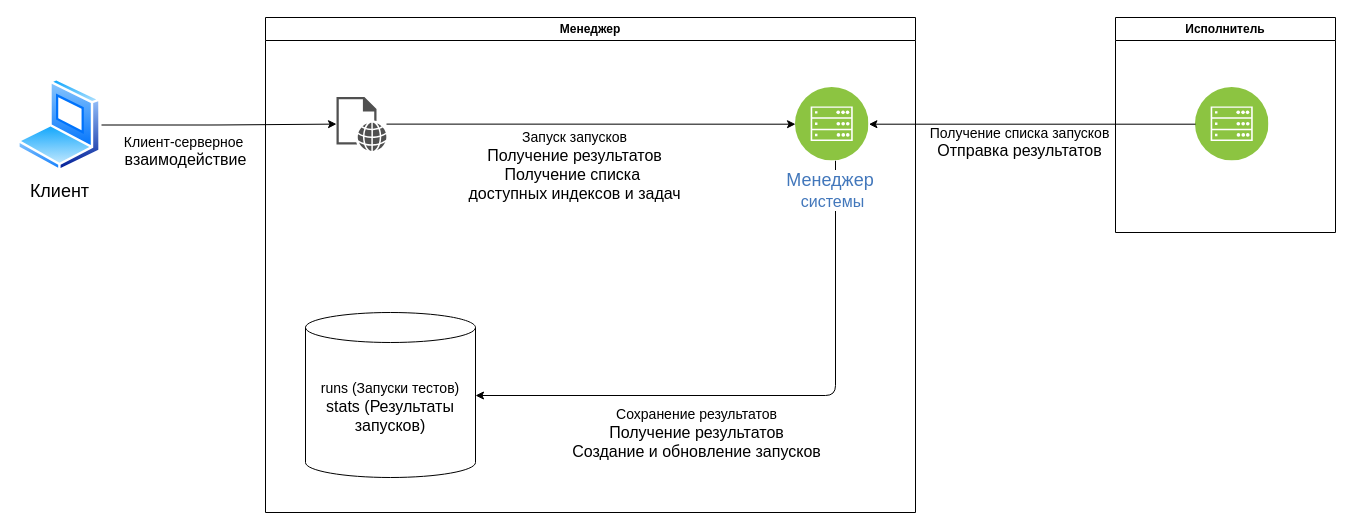
The diagram is 1353 pixels wide and 530 high, and some of its shapes have lost their labels. The centre of each missing label's shape, as x and y in pixels:
"Frontend (react + nginx)" belongs at point 361,124.
"Выполнение запусков" belongs at point 1231,123.
